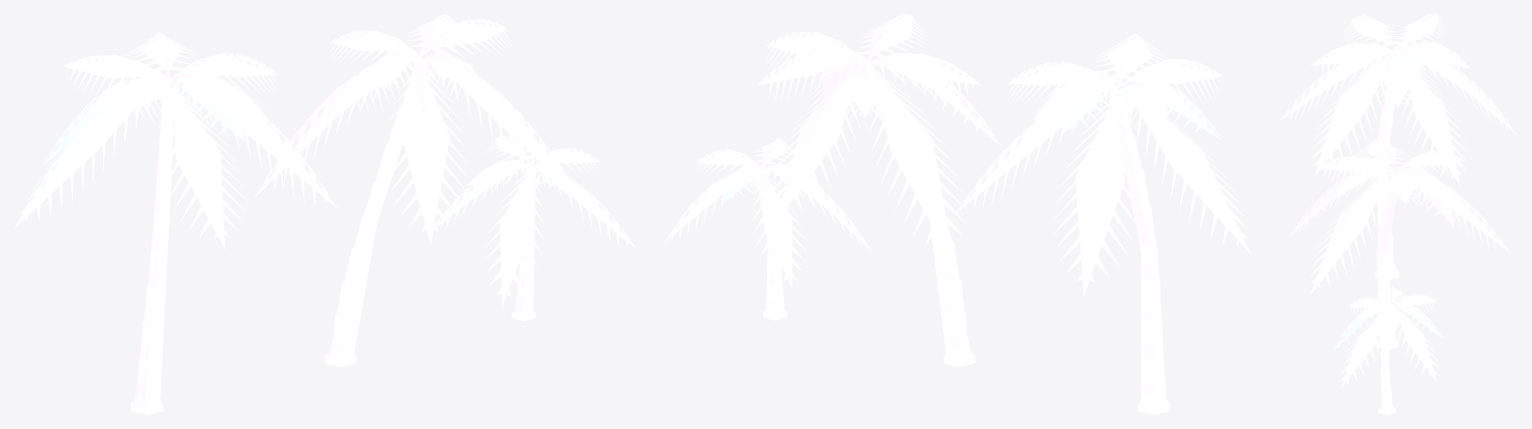
Rendered from palm-trees.glb.
The picture shows the model from 3 angles, left to right: view 1: azimuth 30°, elevation 25°; view 2: azimuth 150°, elevation 25°; view 3: azimuth 270°, elevation 25°; orthographic projection. The views are drawn at different scales.
Parts seen in each view (by area): view 1: Palm_Tall, Palm_Leaning, Palm_Tall_Far, Palm_Leaning_Far, Palm_Young, Palm_Young_Far; view 2: Palm_Tall, Palm_Leaning, Palm_Tall_Far, Palm_Leaning_Far, Palm_Young, Palm_Young_Far; view 3: Palm_Tall, Palm_Leaning, Palm_Tall_Far, Palm_Leaning_Far, Palm_Young, Palm_Young_Far.
Boxes of the visible parts, x1=… form: Palm_Tall: x1=14, y1=32, x2=337, y2=414; Palm_Leaning: x1=255, y1=14, x2=577, y2=367; Palm_Tall_Far: x1=16, y1=39, x2=335, y2=407; Palm_Leaning_Far: x1=257, y1=19, x2=575, y2=357; Palm_Young: x1=434, y1=135, x2=635, y2=320; Palm_Young_Far: x1=436, y1=139, x2=633, y2=316; Palm_Tall: x1=955, y1=33, x2=1250, y2=414; Palm_Leaning: x1=757, y1=14, x2=1002, y2=366; Palm_Tall_Far: x1=956, y1=37, x2=1248, y2=406; Palm_Leaning_Far: x1=758, y1=15, x2=999, y2=357; Palm_Young: x1=664, y1=138, x2=871, y2=320; Palm_Young_Far: x1=666, y1=142, x2=869, y2=315; Palm_Tall: x1=1279, y1=14, x2=1517, y2=279; Palm_Leaning: x1=1289, y1=138, x2=1508, y2=349; Palm_Tall_Far: x1=1281, y1=15, x2=1515, y2=274; Palm_Leaning_Far: x1=1290, y1=142, x2=1506, y2=344; Palm_Young: x1=1331, y1=286, x2=1444, y2=414; Palm_Young_Far: x1=1333, y1=289, x2=1442, y2=411.
Bounding box in the file's own units: 16.27 × 9.29 × 7.94.
